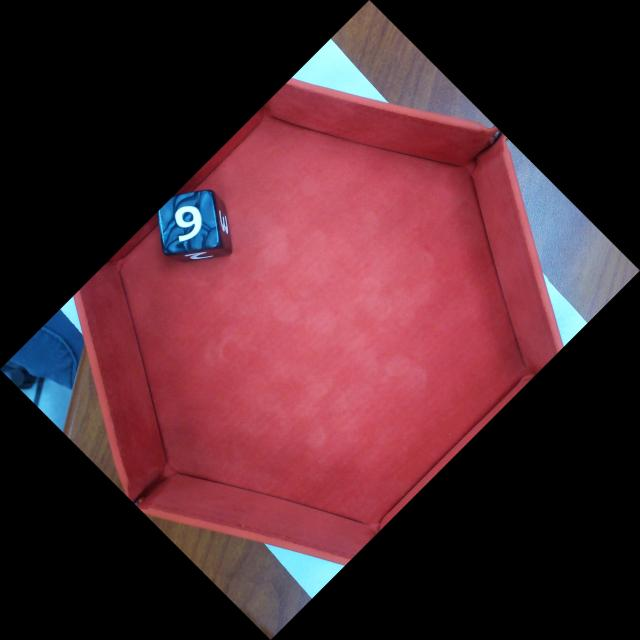dice: (152, 188, 222, 258)
